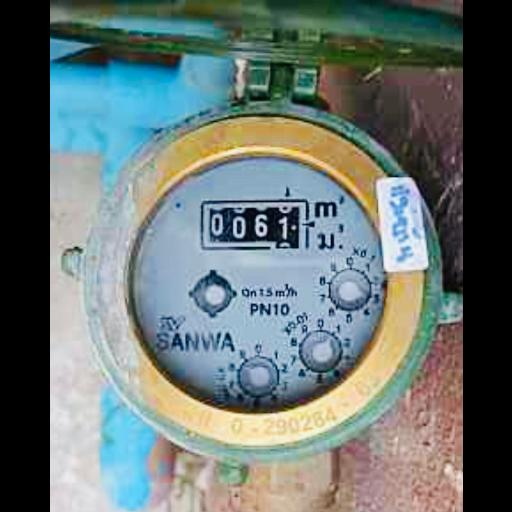0: (226, 206, 249, 242), (209, 208, 227, 243)
1: (274, 207, 299, 250)
6: (247, 205, 275, 242)
border_water_meter_number: (199, 198, 310, 251)
